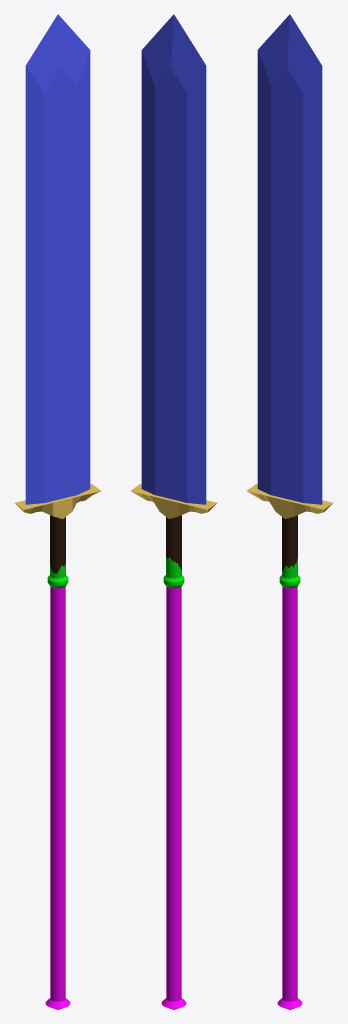
File: Weapen Set.fbx
3 views of the same model, side by side, from view 1: azimuth 30°, elevation 25°; view 2: azimuth 150°, elevation 25°; view 3: azimuth 330°, elevation 25° (orthographic).
Visible parts, largest first — view 1: Great Sword, Spear, Sword Handle, Broad Sword; view 2: Great Sword, Spear, Sword Handle, Broad Sword; view 3: Great Sword, Spear, Sword Handle, Broad Sword.
Part boxes in pixels (x1,y1,x2,y2): Great Sword: [25, 14, 90, 504]; Spear: [45, 586, 70, 1009]; Sword Handle: [15, 484, 100, 573]; Broad Sword: [47, 563, 68, 588]; Great Sword: [141, 14, 206, 504]; Spear: [161, 586, 186, 1009]; Sword Handle: [131, 484, 216, 569]; Broad Sword: [163, 557, 184, 588]; Great Sword: [257, 14, 322, 504]; Spear: [277, 586, 302, 1009]; Sword Handle: [247, 484, 332, 571]; Broad Sword: [279, 557, 300, 588].
Bounding box in the file's own units: 1122 × 13773 × 313.
